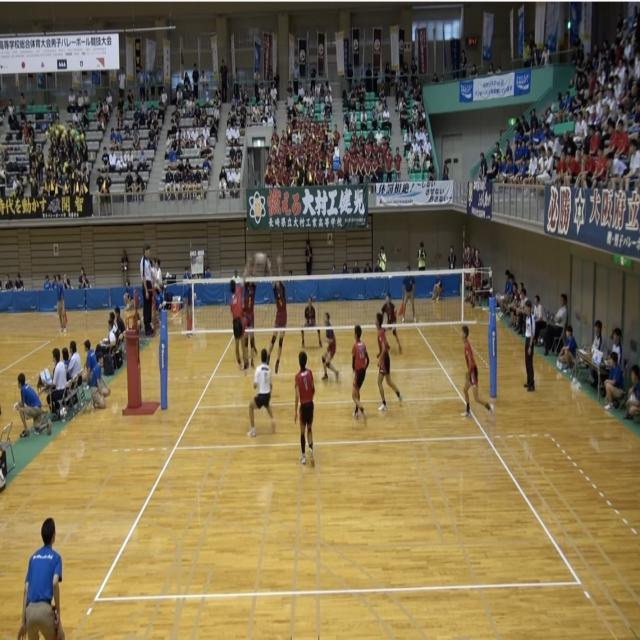spike: (224, 245, 265, 378)
